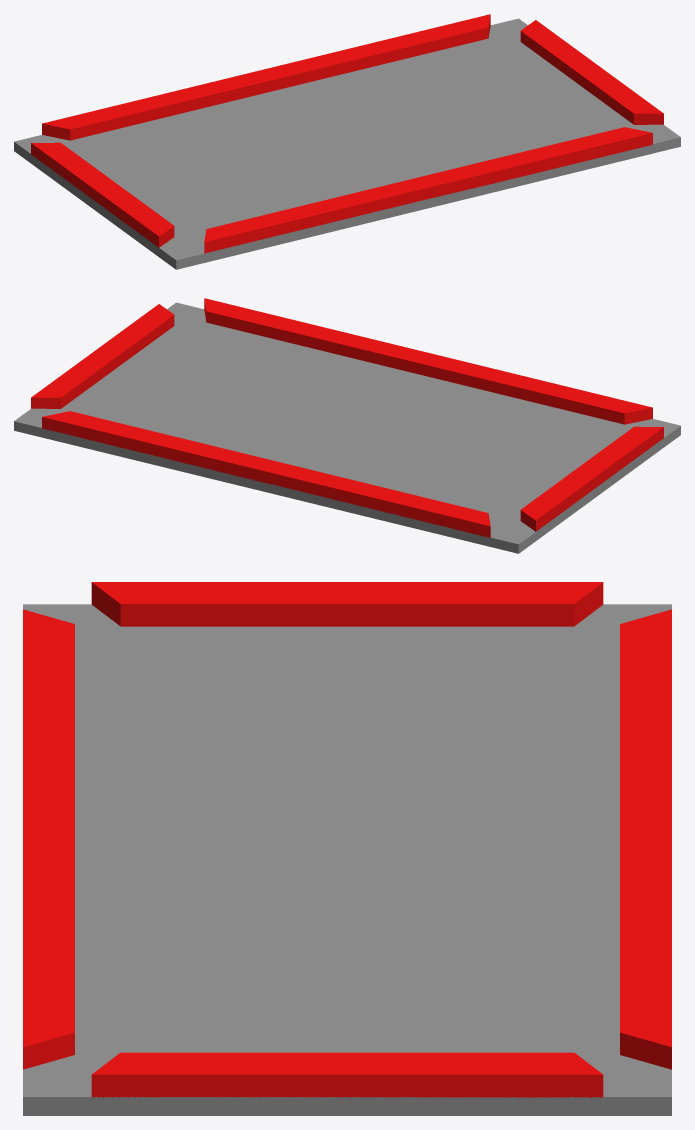
File: Base_Table_V01.FBX
3 views of the same model, one above another, from view 1: azimuth 30°, elevation 25°; view 2: azimuth 150°, elevation 25°; view 3: azimuth 270°, elevation 25° (orthographic). The views are drawn at different scales.
Parts seen in each view (by area): view 1: Base, Rail_01, Rail_03, Rail_04, Rail_02; view 2: Base, Rail_03, Rail_01, Rail_02, Rail_04; view 3: Base, Rail_03, Rail_01, Rail_02, Rail_04.
Boxes of the visible parts, <box> form: Base: <box>14,18,680,269</box>; Rail_01: <box>204,127,652,253</box>; Rail_03: <box>42,14,490,140</box>; Rail_04: <box>31,142,174,247</box>; Rail_02: <box>520,20,663,124</box>; Base: <box>14,302,680,553</box>; Rail_03: <box>42,411,490,537</box>; Rail_01: <box>204,298,652,424</box>; Rail_02: <box>31,304,174,408</box>; Rail_04: <box>520,426,663,531</box>; Base: <box>23,604,671,1115</box>; Rail_03: <box>620,609,671,1069</box>; Rail_01: <box>23,609,74,1069</box>; Rail_02: <box>91,1052,603,1098</box>; Rail_04: <box>91,582,603,626</box>.
Size of the model in its own units: 223 by 8.75 by 124.
